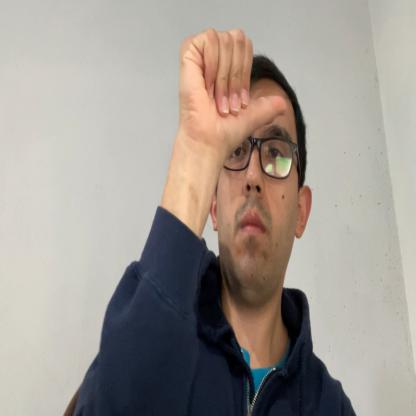A: (177, 28, 287, 148)
